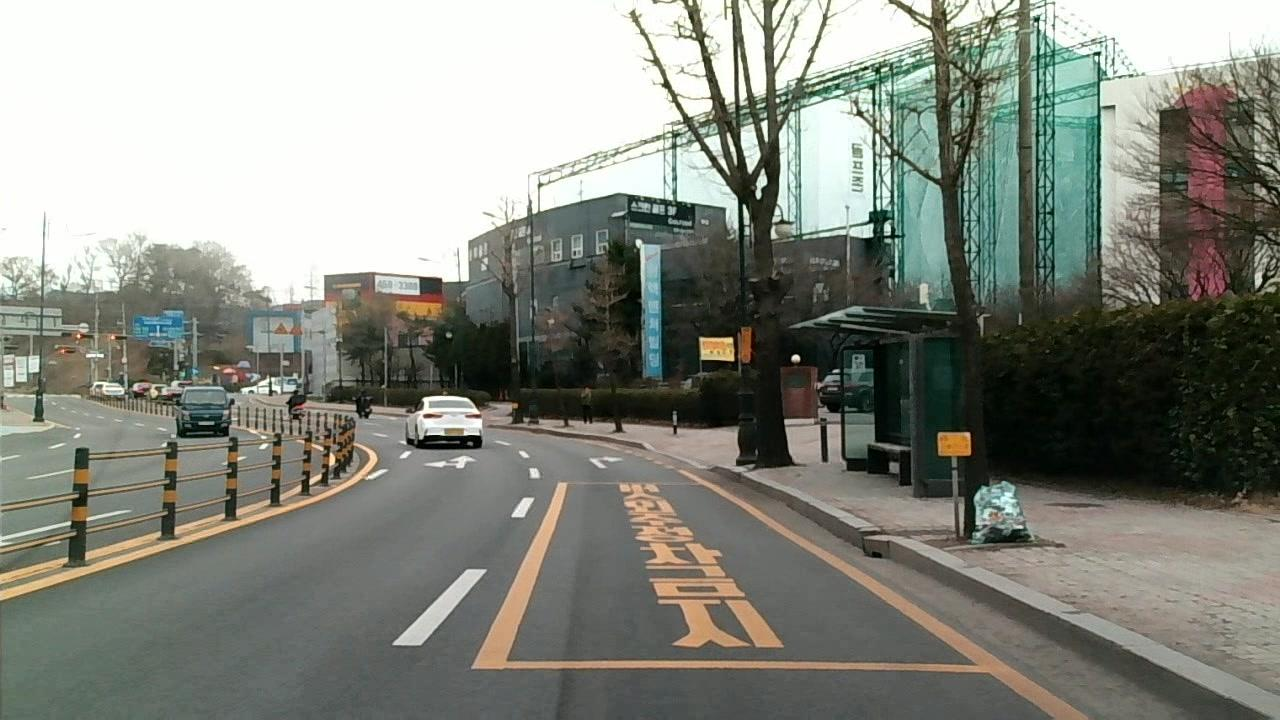trash: (968, 475, 1031, 547)
